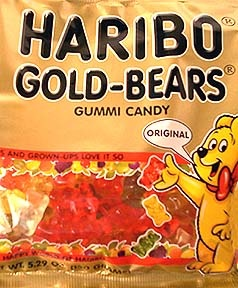grozi_66: (0, 0, 237, 288)
